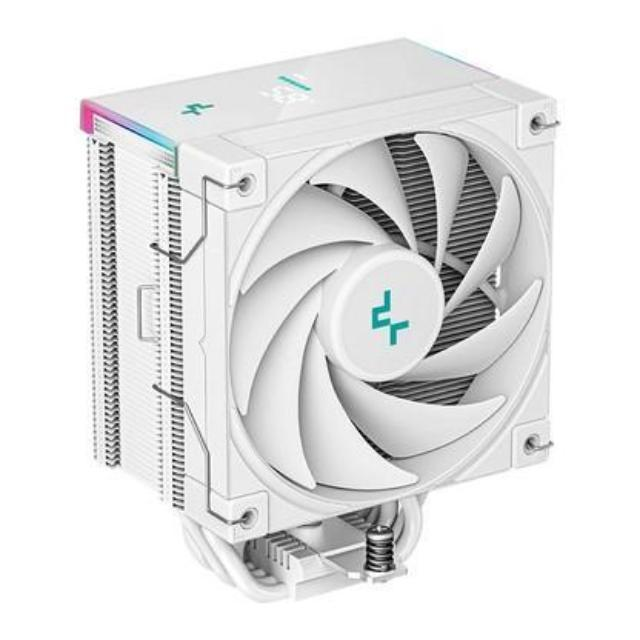CPU_Fan: (87, 37, 553, 594)
